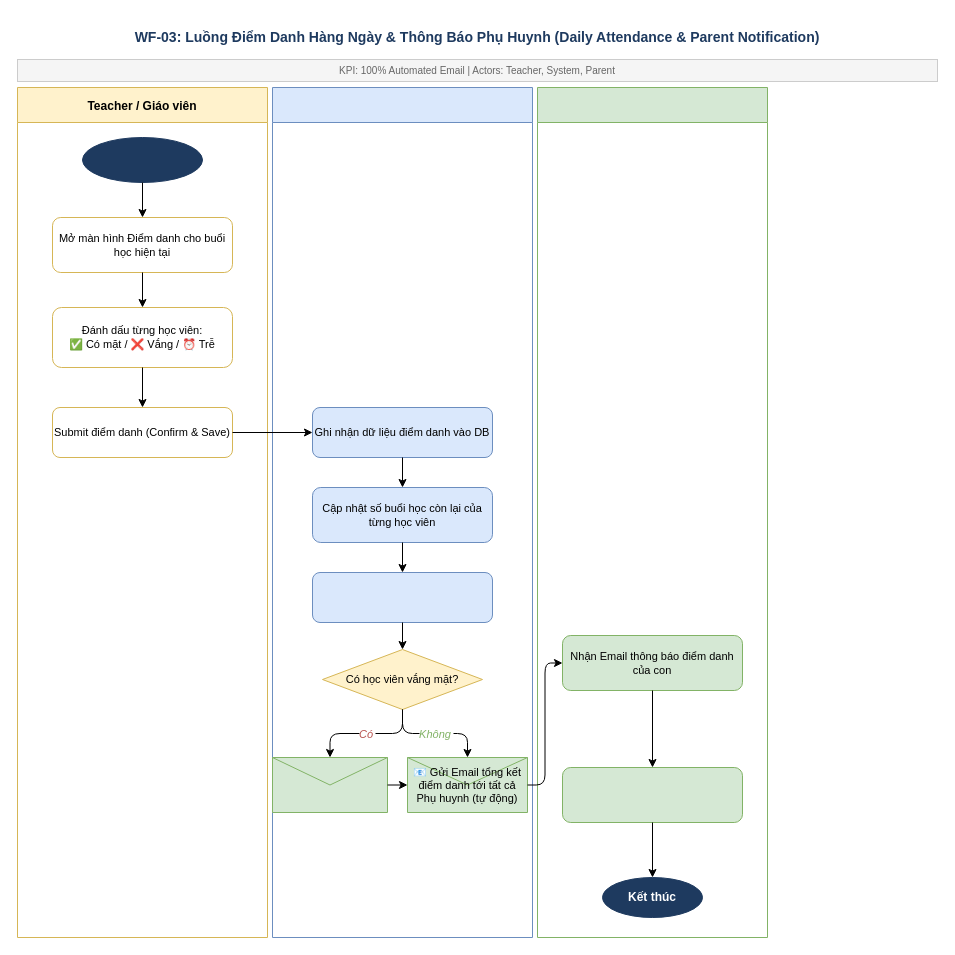
This 955x955 diagram has some shape labels left out. Each missing label, with the box of its shape:
Bắt đầu (Buổi học diễn ra): (82, 136, 202, 182)
Kiểm tra danh sách học viên vắng mặt: (312, 572, 492, 622)
Parent / Phụ huynh: (536, 86, 768, 938)
System (CLS): (272, 86, 532, 938)
Xem thông tin: Có mặt / Vắng, số buổi còn lại: (562, 766, 742, 822)
📧 Gửi Email thông báo vắng mặt tới Phụ huynh học viên vắng (tự động): (272, 756, 388, 812)
